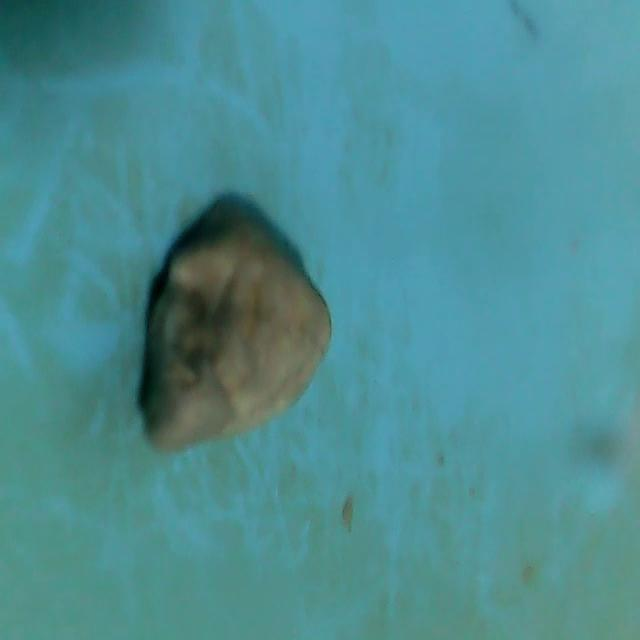rock: (142, 217, 340, 467)
